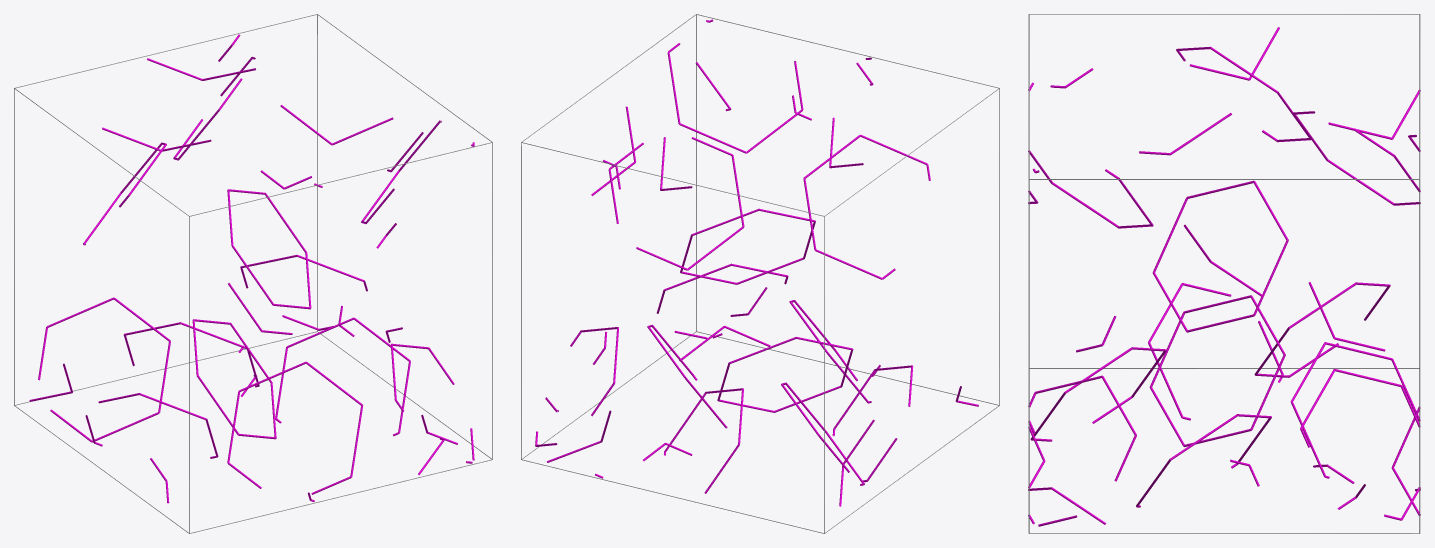
Rendered from ddd000.glb.
3 views of the same model, side by side, from view 1: azimuth 30°, elevation 25°; view 2: azimuth 150°, elevation 25°; view 3: azimuth 270°, elevation 25° (orthographic). The views are drawn at different scales.
Parts seen in each view (by area): view 1: Shape_IndexedLineSet.003, Shape_IndexedLineSet.002; view 2: Shape_IndexedLineSet.003, Shape_IndexedLineSet.002; view 3: Shape_IndexedLineSet.003, Shape_IndexedLineSet.002.
Boxes of the visible parts, x1,y1,x2,y2 form: Shape_IndexedLineSet.003: [29, 34, 474, 503]; Shape_IndexedLineSet.002: [14, 14, 492, 533]; Shape_IndexedLineSet.003: [535, 19, 978, 506]; Shape_IndexedLineSet.002: [521, 14, 999, 533]; Shape_IndexedLineSet.003: [1028, 27, 1420, 526]; Shape_IndexedLineSet.002: [1028, 14, 1420, 533].
Bounding box in the file's own units: 10.05 × 10.05 × 10.05.
